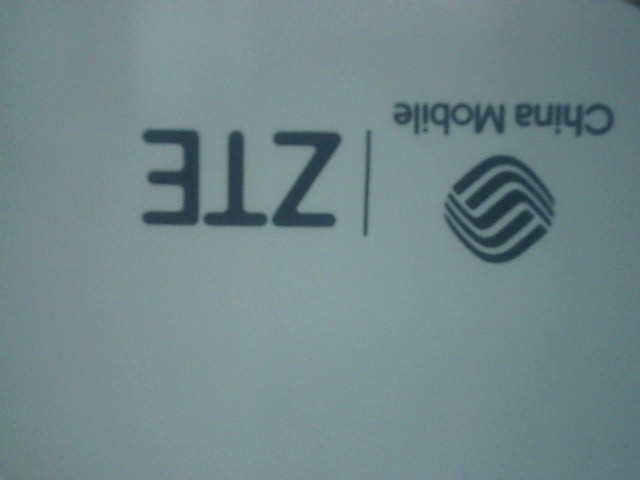AL_ZTEChinaMobile: (138, 86, 615, 270)
